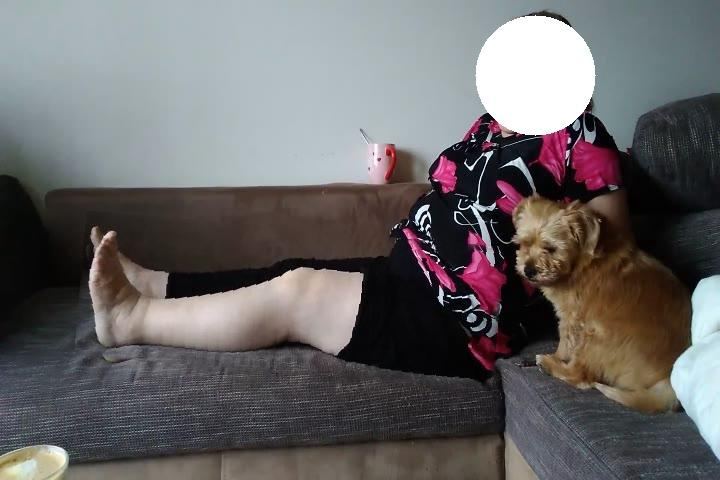lower_body: (78, 220, 504, 383)
